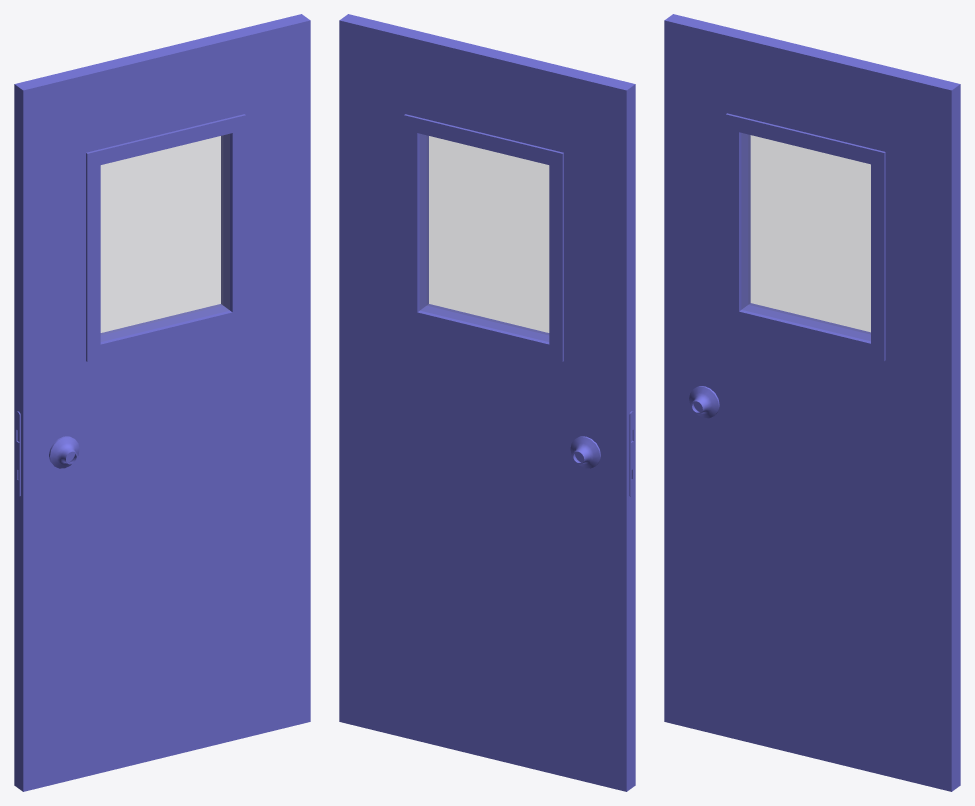
Rendered from Puerta.fbx.
3 views of the same model, side by side, from view 1: azimuth 30°, elevation 25°; view 2: azimuth 150°, elevation 25°; view 3: azimuth 330°, elevation 25° (orthographic).
Visible parts, largest first — view 1: Puerta; view 2: Puerta; view 3: Puerta.
Part boxes in pixels (left/top/right/bottom): Puerta: left=14, top=14, right=310, bottom=791; Puerta: left=339, top=14, right=635, bottom=791; Puerta: left=664, top=14, right=960, bottom=791.
Bounding box in the file's own units: 0.9036 × 2.1 × 0.1359.
